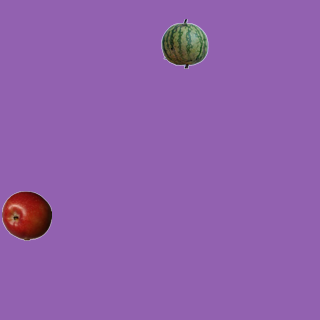Apple Braeburn: (1, 190, 51, 240)
Watermelon: (159, 18, 209, 68)
